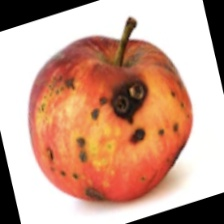apple: (24, 49, 167, 191)
